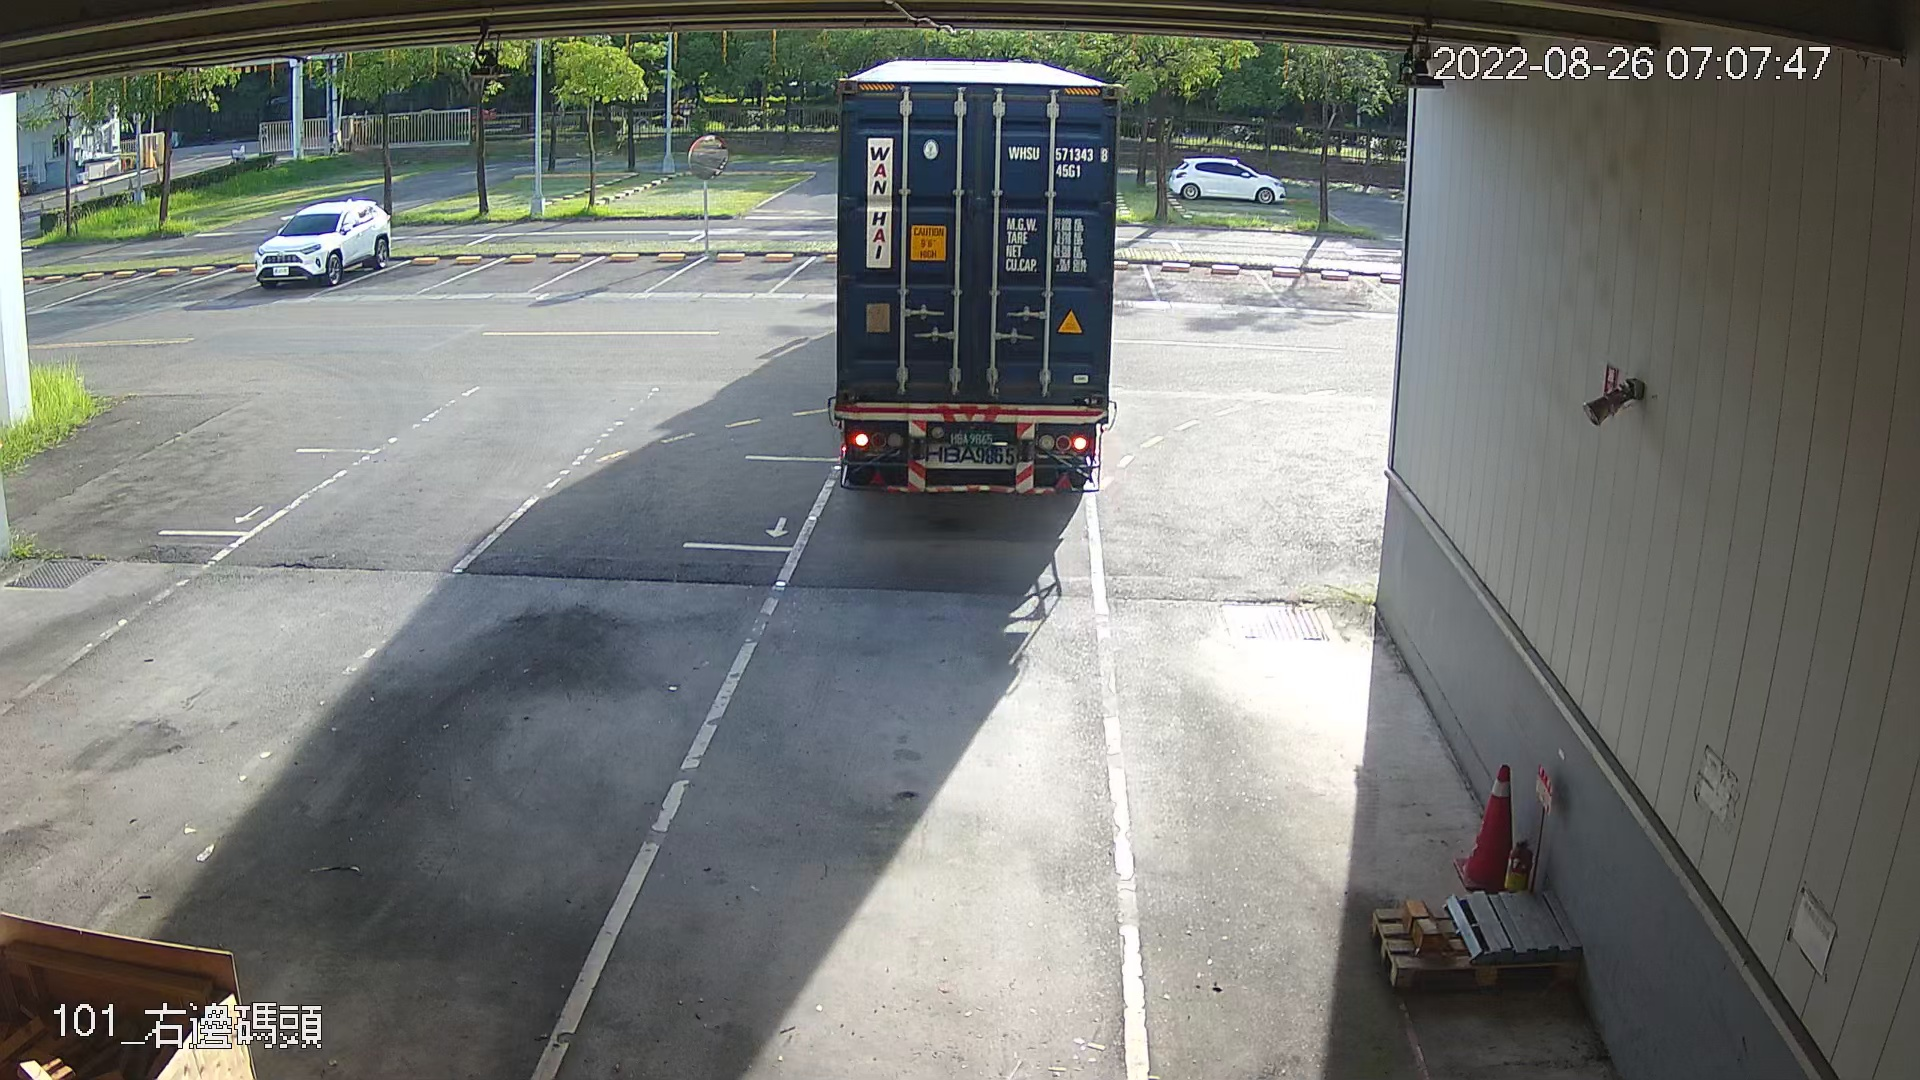container: (1004, 136, 1112, 186)
